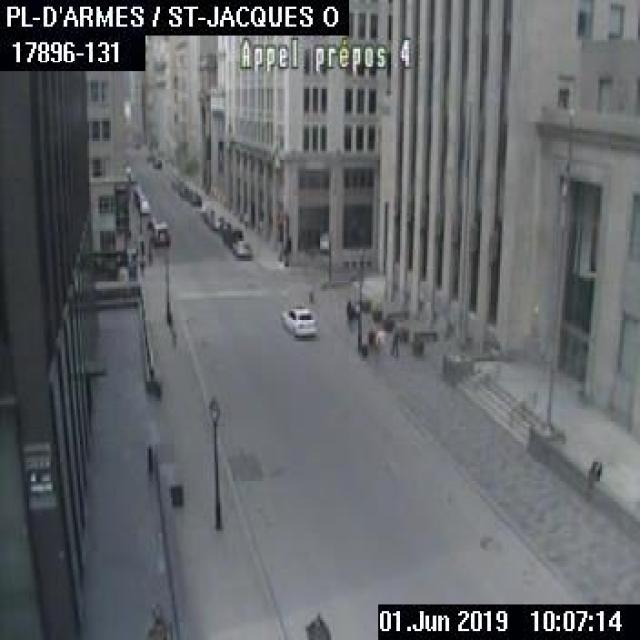pedestrian: (375, 326, 385, 355), (389, 324, 398, 356), (366, 326, 375, 354), (346, 299, 352, 327), (352, 301, 358, 322)
vehicle: (280, 304, 316, 336), (221, 220, 242, 245), (149, 222, 168, 246), (232, 238, 252, 255), (209, 212, 224, 228), (138, 197, 150, 213), (188, 192, 199, 204), (150, 156, 160, 166)
